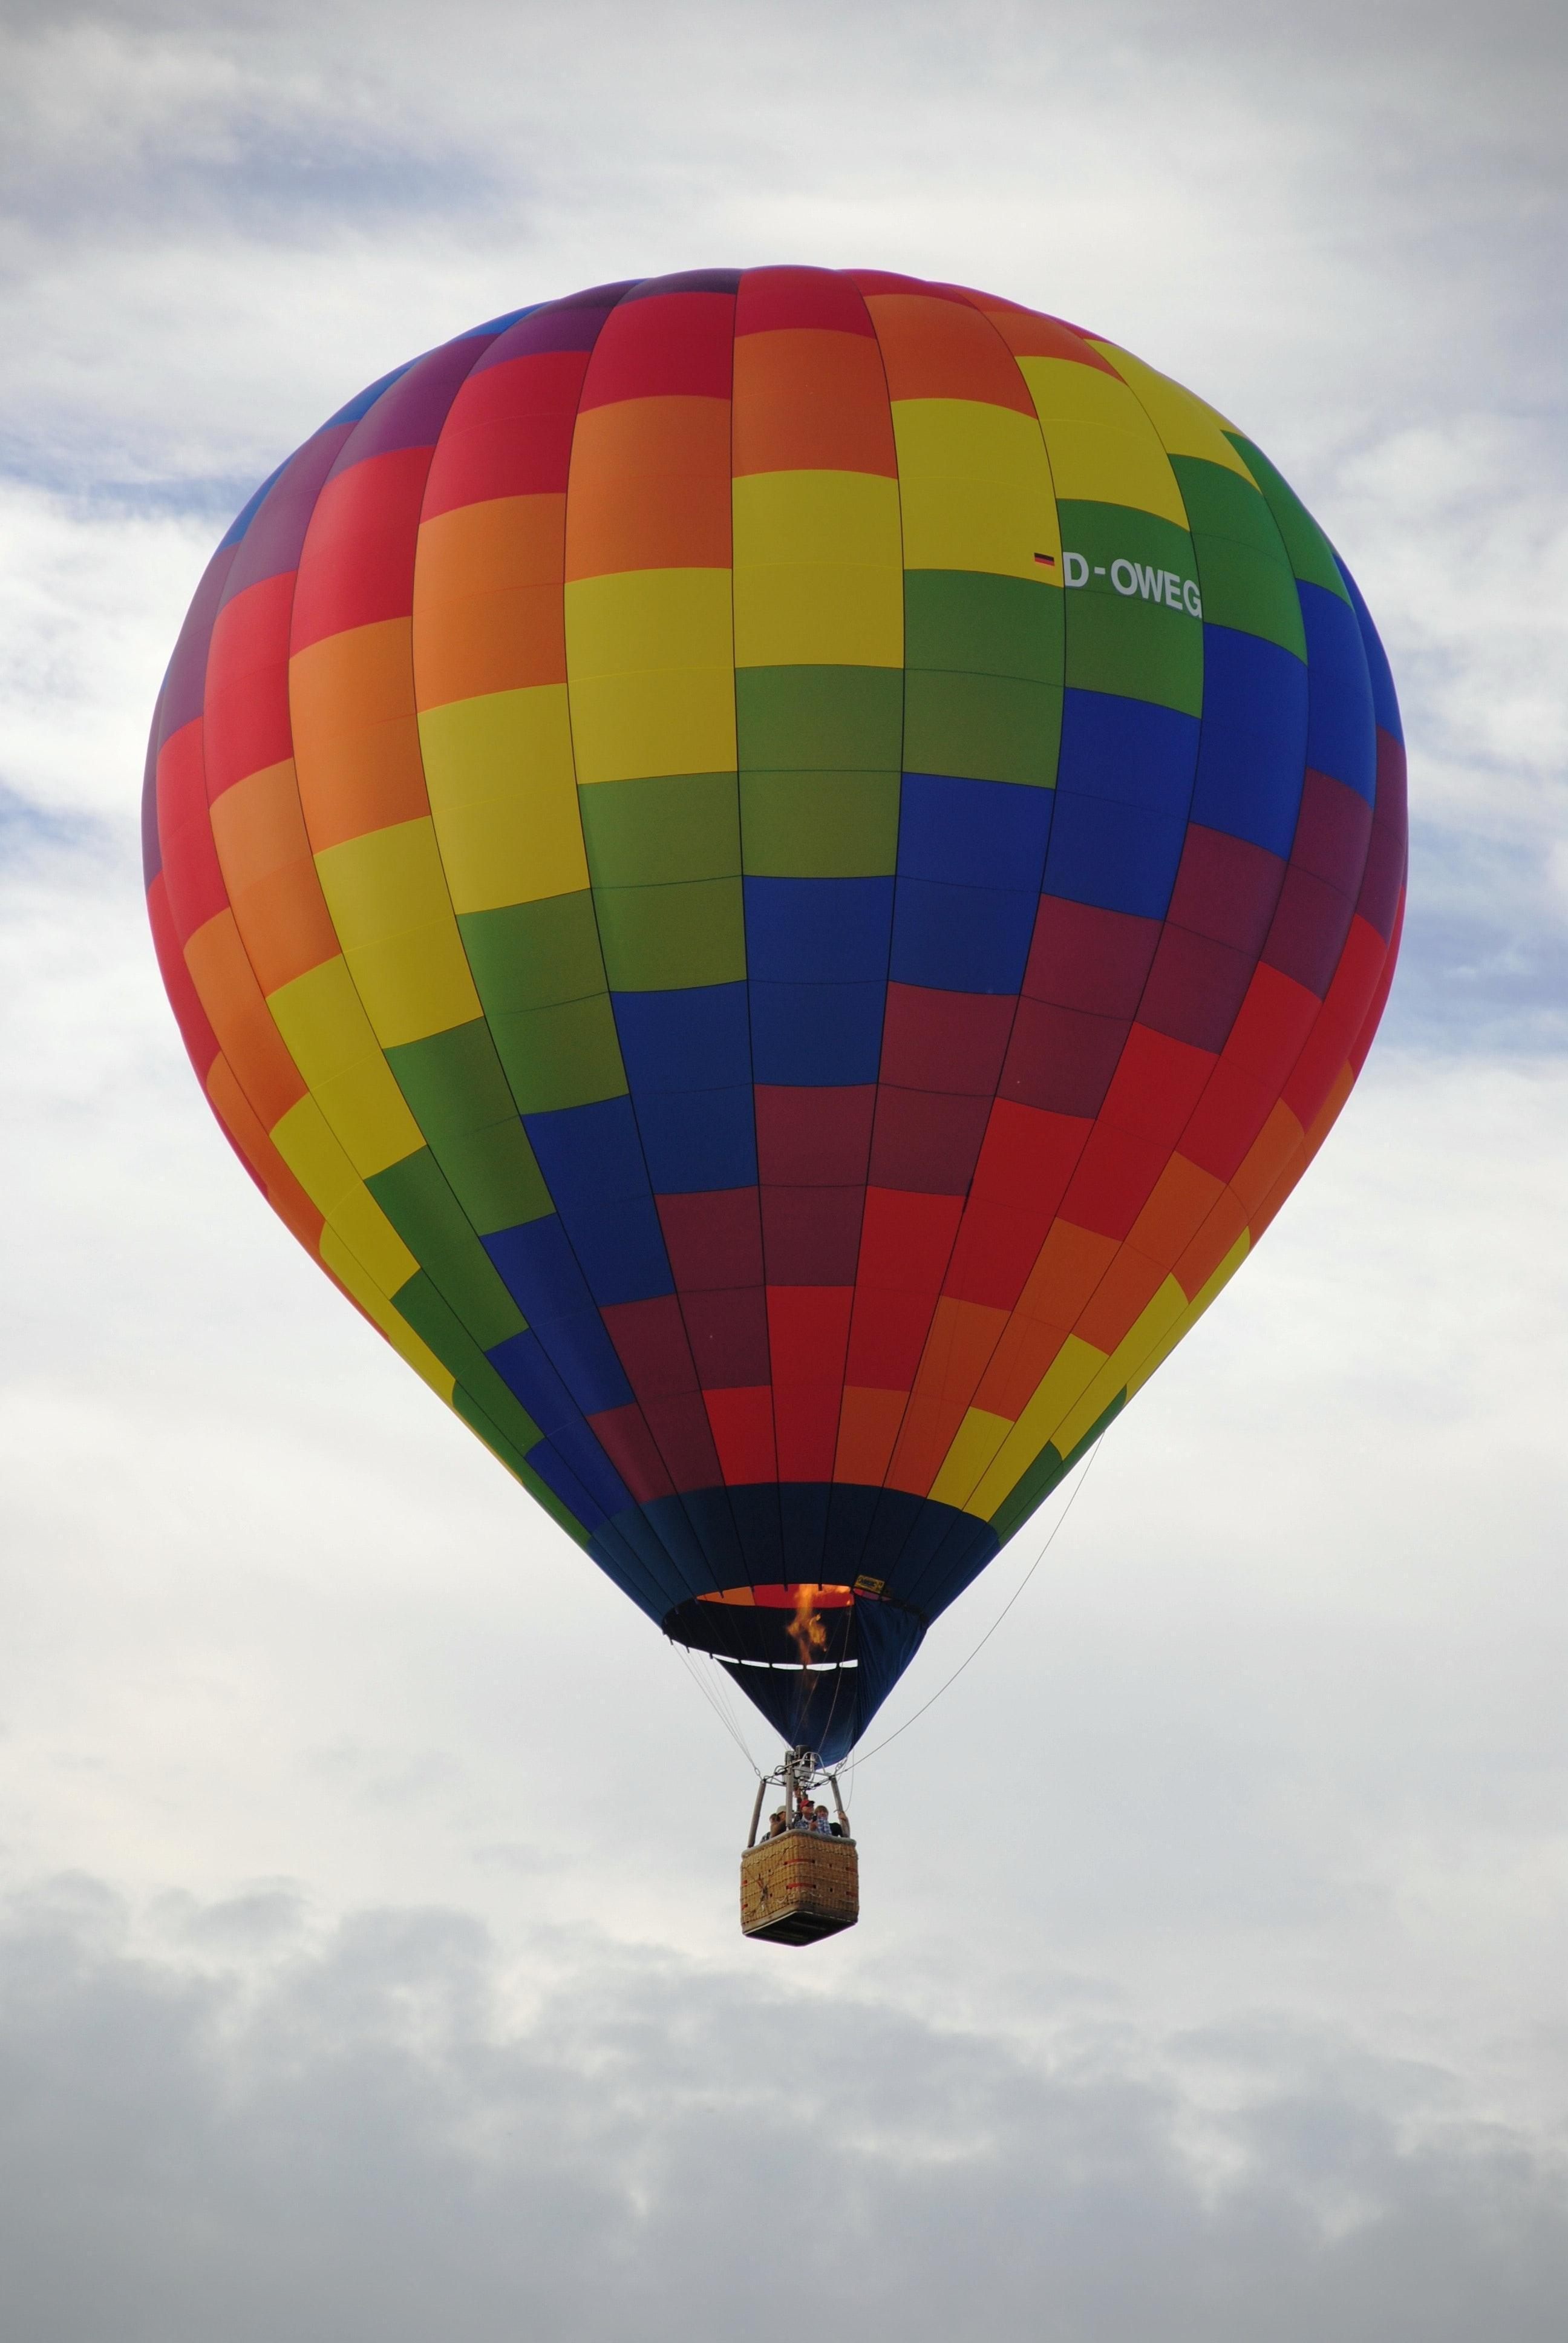hot air ballon: (129, 236, 1419, 1948)
